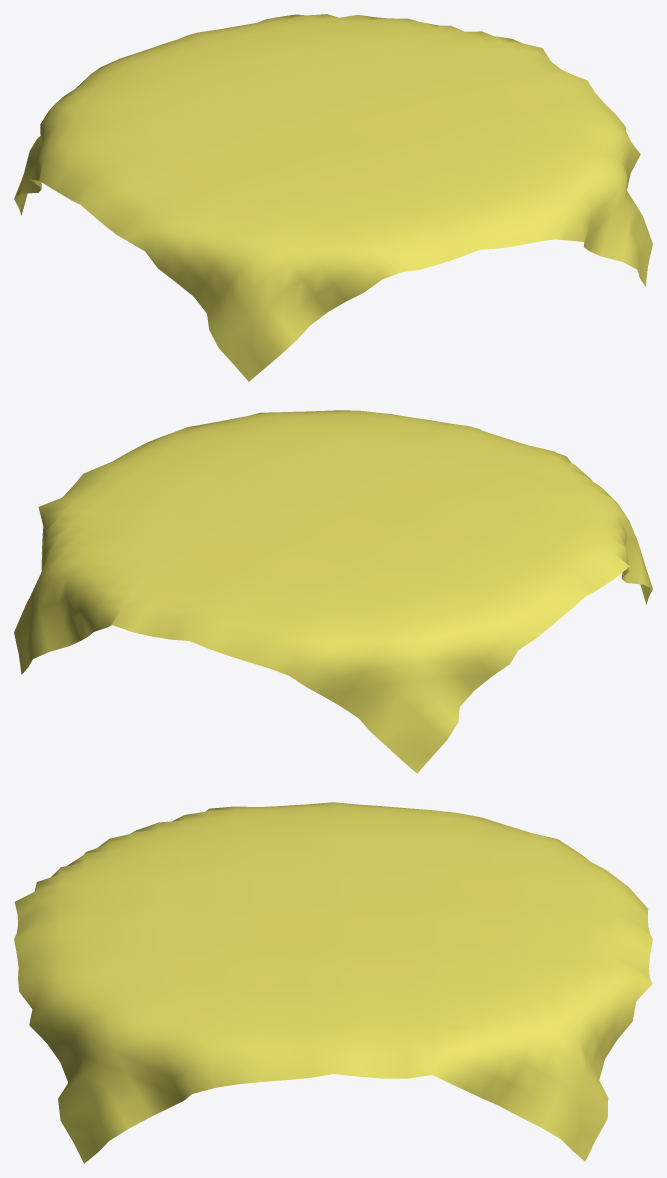
Rendered from Hamburger-Cheese.fbx.
3 renders of one model, top to bottom at view 1: azimuth 30°, elevation 25°; view 2: azimuth 150°, elevation 25°; view 3: azimuth 270°, elevation 25°, orthographic. The views are drawn at different scales.
Parts seen in each view (by area): view 1: Cheese; view 2: Cheese; view 3: Cheese.
Boxes of the visible parts, x1,y1,x2,y2 form: Cheese: [14, 14, 652, 381]; Cheese: [14, 410, 652, 773]; Cheese: [14, 802, 652, 1163].
Size of the model in its own units: 198 by 50.35 by 197.
